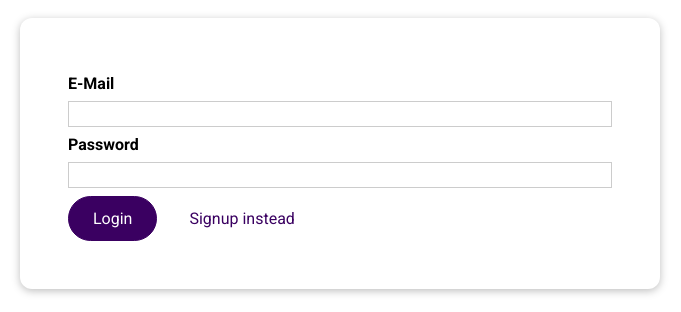
it: UserAuth page › Layout › has Login up instead button
The image size is (681, 312).
Click the button "Signup instead" at [242, 218], box [166,197,319,240]
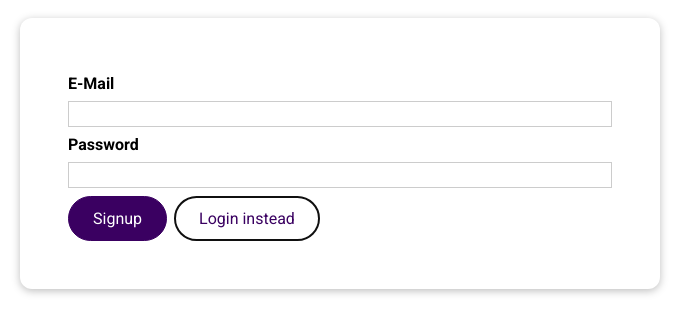
expect the button "Login instead" is shown: met, box [175,197,319,240]
